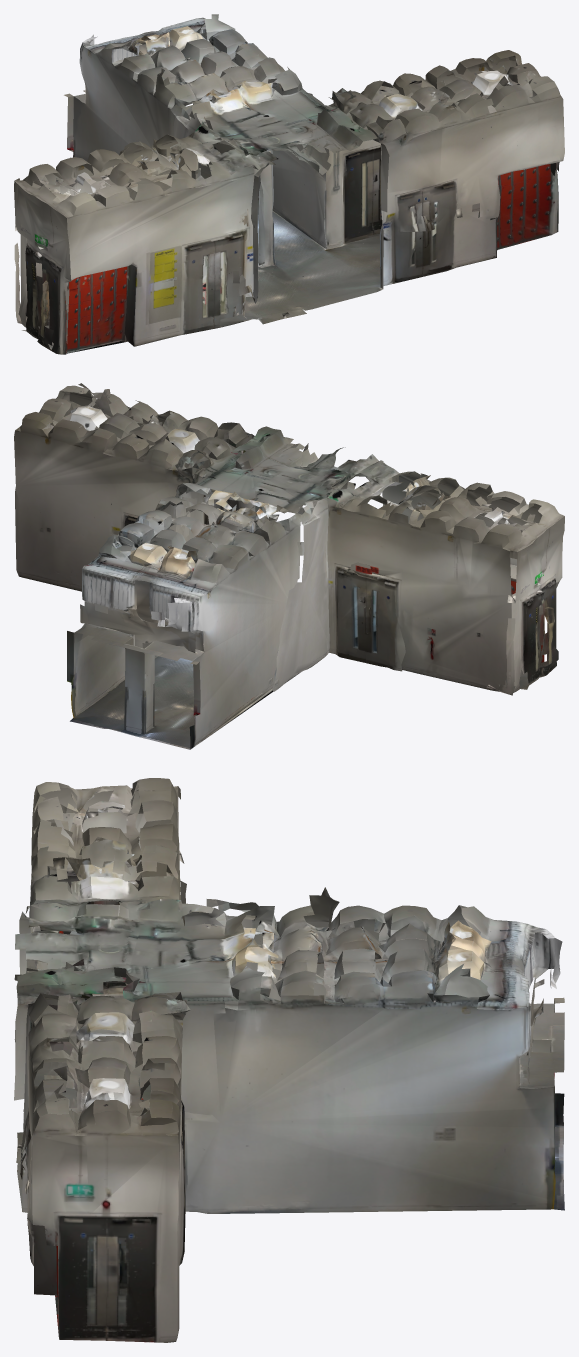
File: Atrium_entrance_2_IM.fbx
The picture shows the model from 3 angles, top to bottom: view 1: azimuth 30°, elevation 25°; view 2: azimuth 150°, elevation 25°; view 3: azimuth 270°, elevation 25°; orthographic projection. The views are drawn at different scales.
Parts seen in each view (by area): view 1: Atrium_entrance_2_IM; view 2: Atrium_entrance_2_IM; view 3: Atrium_entrance_2_IM.
Boxes of the visible parts, <box> form: Atrium_entrance_2_IM: <box>14,14,564,354</box>; Atrium_entrance_2_IM: <box>14,383,564,749</box>; Atrium_entrance_2_IM: <box>14,778,564,1342</box>.
Bounding box in the file's own units: 1224 × 404 × 805.
1 material, 1 textured.
